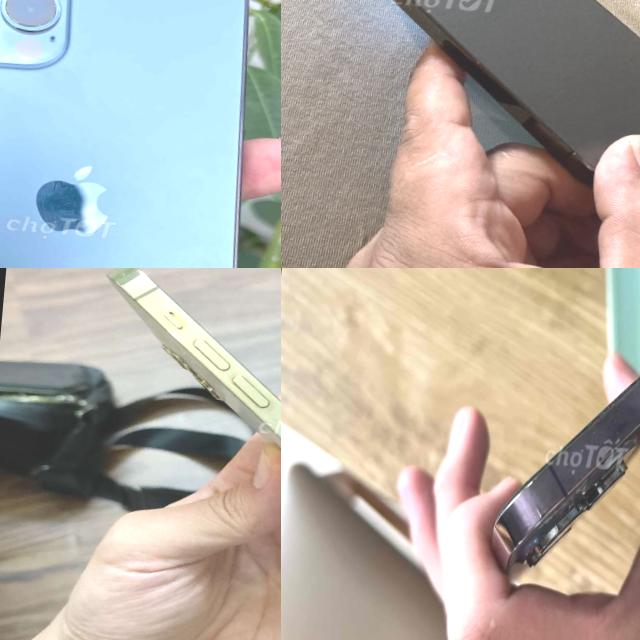gen_12_13: (73, 268, 281, 640), (0, 0, 281, 268), (281, 0, 640, 193)
gen_14: (469, 305, 640, 599)
